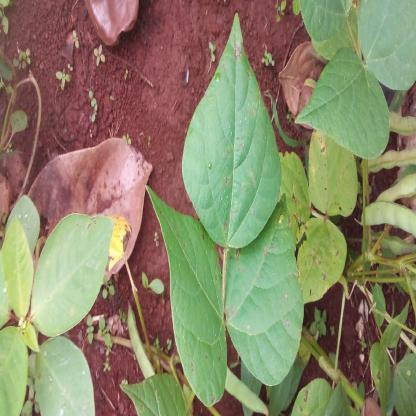Beans_Angular_LeafSpot: (194, 24, 272, 250), (162, 198, 235, 405), (233, 200, 289, 380), (297, 211, 346, 302)
